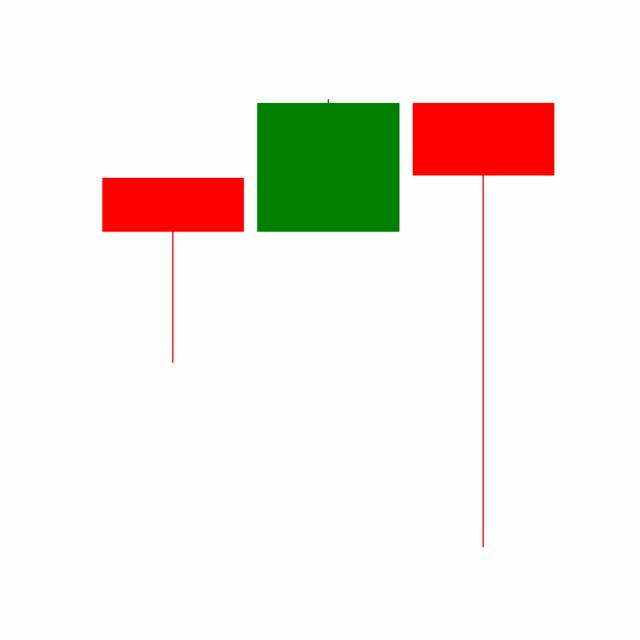Hammer: (405, 98, 561, 552)
